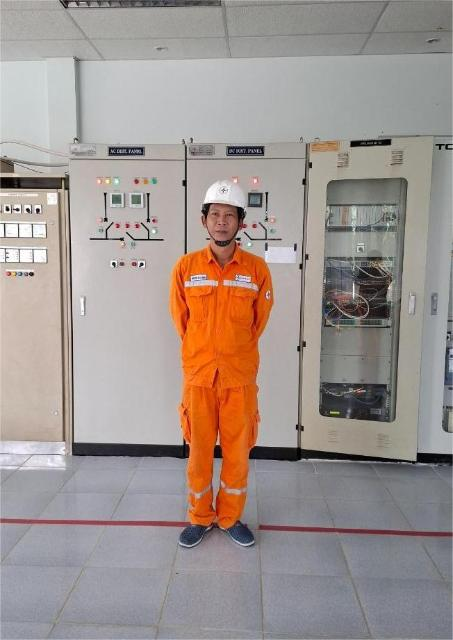helmet: (199, 180, 254, 215)
shoes: (162, 505, 219, 564), (215, 502, 269, 555)
